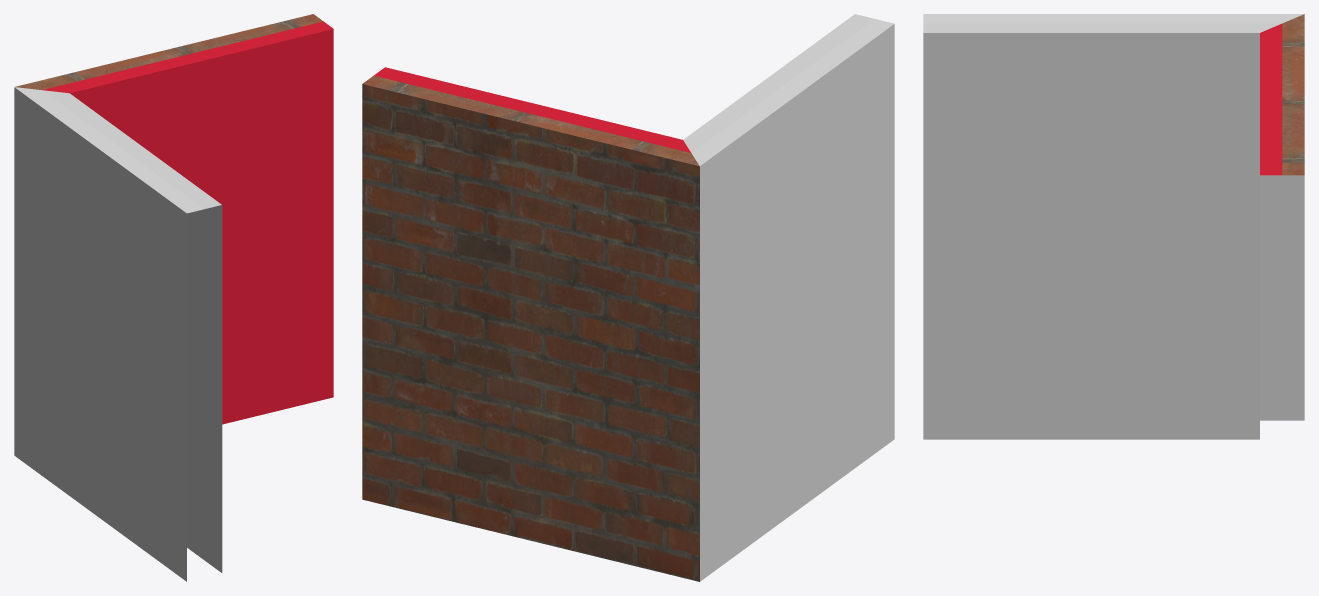
Rendered from Corner_Wall_Incomplete.fbx.
The picture shows the model from 3 angles, left to right: view 1: azimuth 30°, elevation 25°; view 2: azimuth 150°, elevation 25°; view 3: azimuth 270°, elevation 25°; orthographic projection. The views are drawn at different scales.
Parts seen in each view (by area): view 1: Corner Wall; view 2: Corner Wall; view 3: Corner Wall.
Part boxes in pixels (<box>): Corner Wall: <box>14,14,333,581</box>; Corner Wall: <box>362,14,894,581</box>; Corner Wall: <box>923,14,1304,439</box>.
Bounding box in the file's own units: 425 × 500 × 425.
